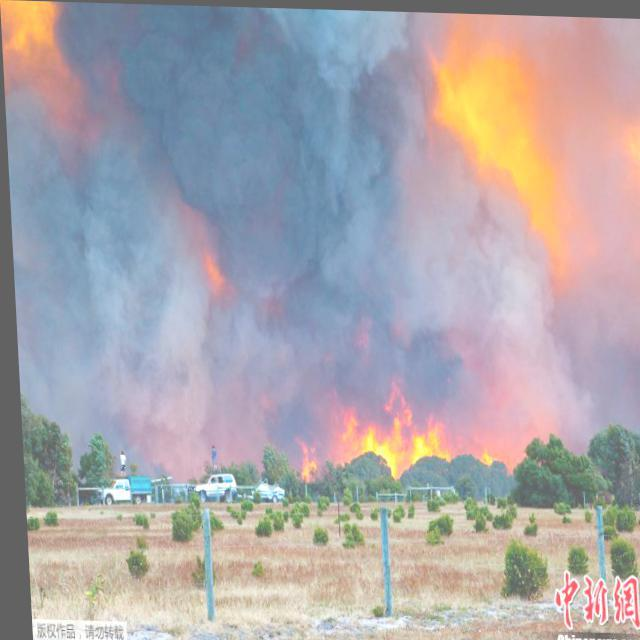Fire: (22, 353, 530, 478), (434, 53, 595, 303)
